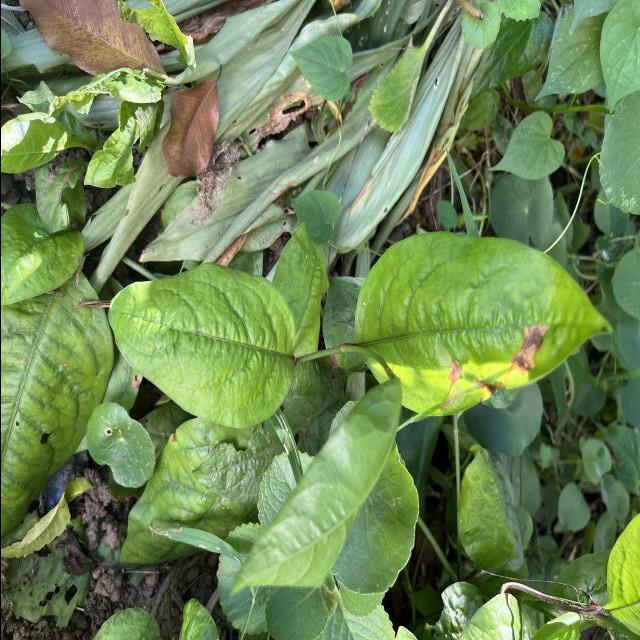Plumbago indica: (348, 228, 618, 426), (105, 264, 300, 432)
